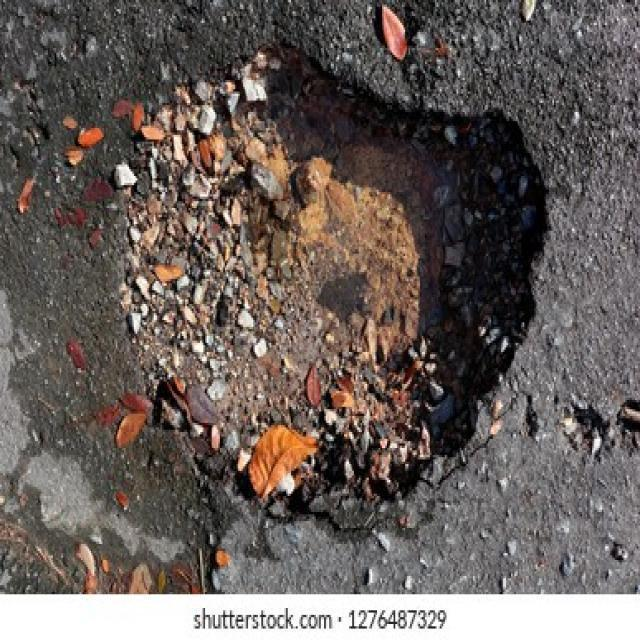Pothole: (111, 46, 549, 531)
